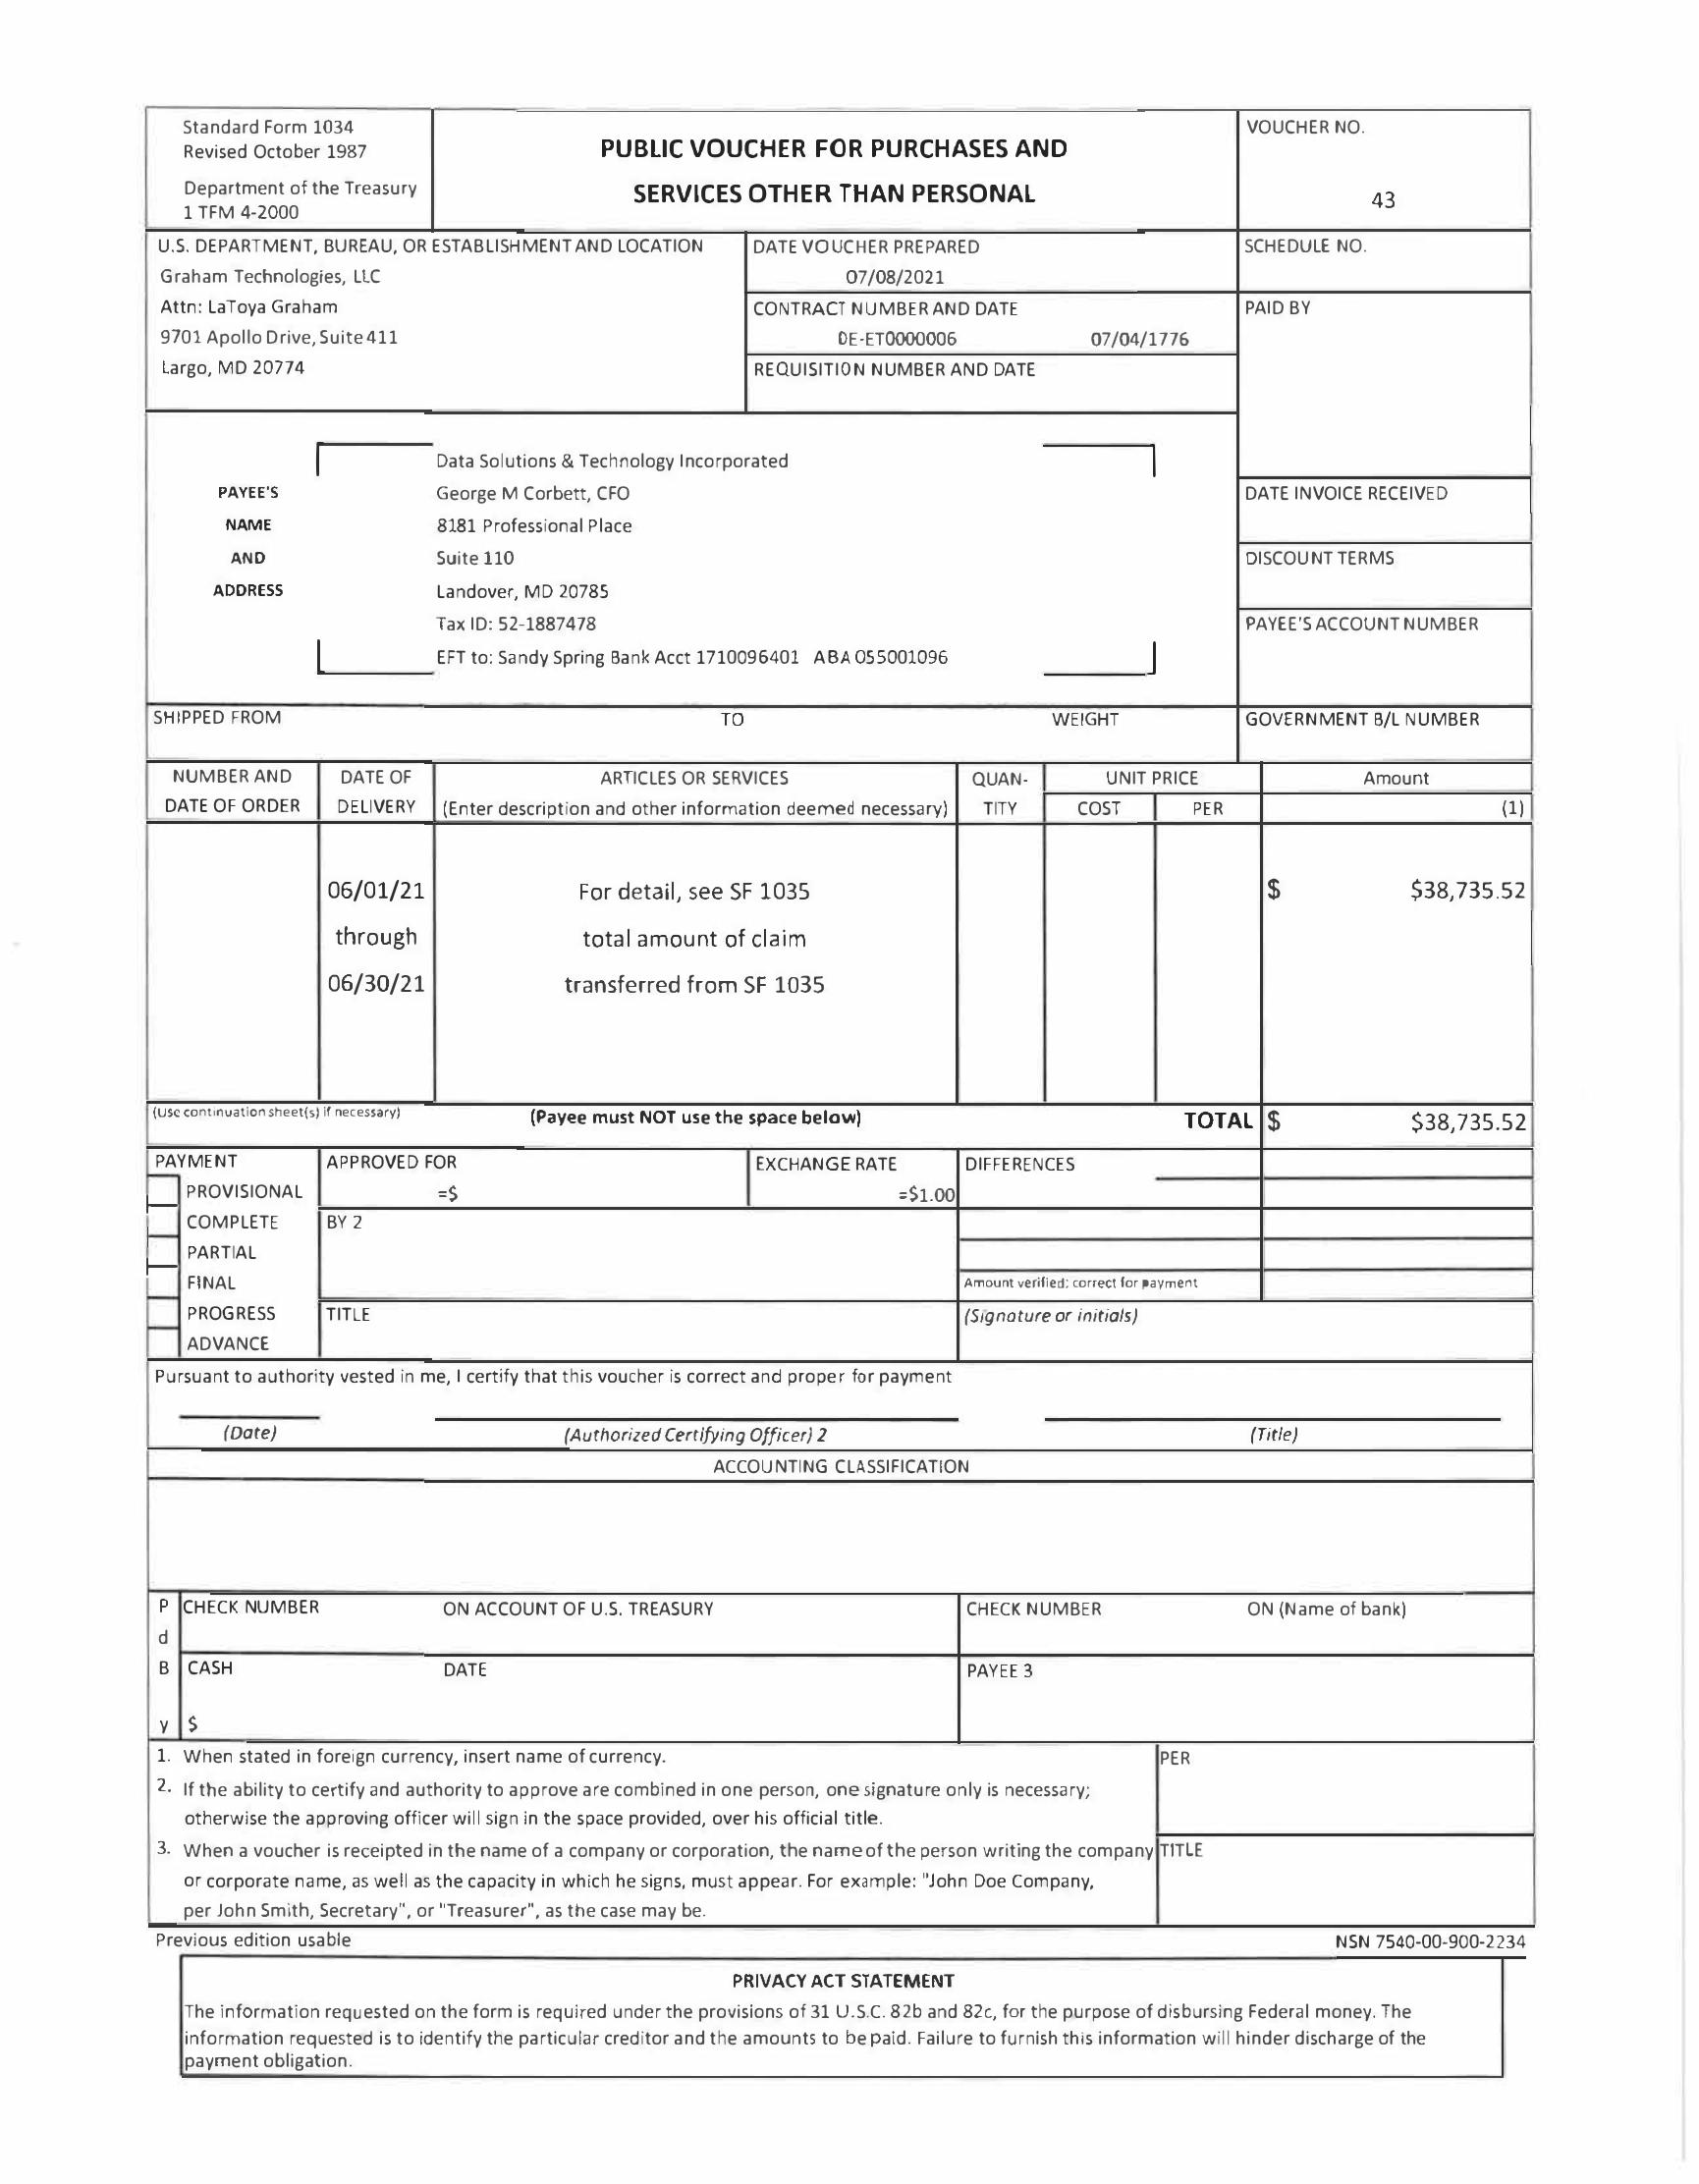table: (140, 757, 1541, 1106)
